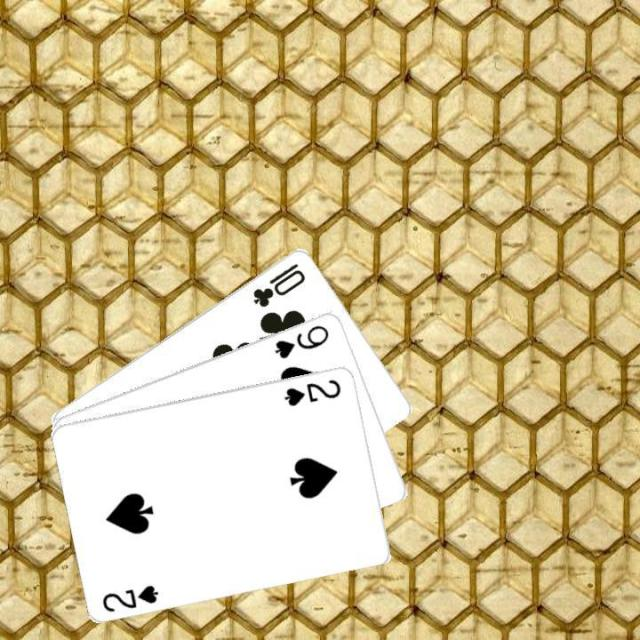10C: (249, 259, 307, 309)
2S: (280, 374, 343, 408), (99, 580, 161, 614)
9S: (270, 321, 332, 360)
